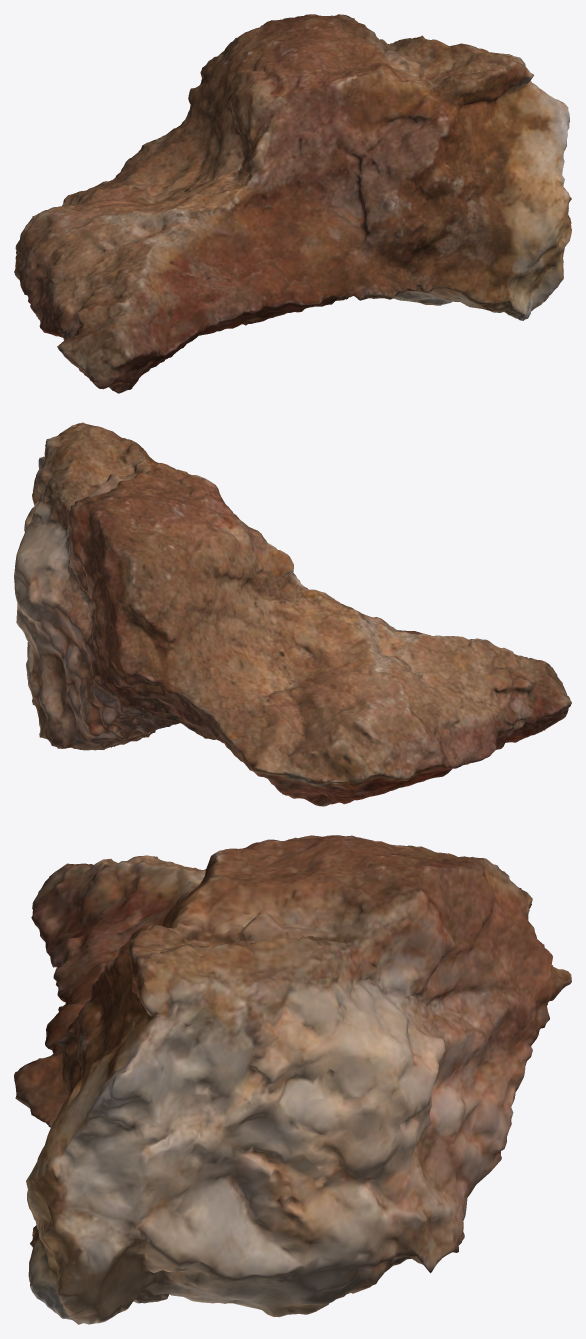
File: limestone.glb
3 views of the same model, one above another, from view 1: azimuth 30°, elevation 25°; view 2: azimuth 150°, elevation 25°; view 3: azimuth 270°, elevation 25° (orthographic). The views are drawn at different scales.
Visible parts, largest first — view 1: stone_01; view 2: stone_01; view 3: stone_01.
Part boxes in pixels (x1=…): stone_01: x1=14, y1=14, x2=571, y2=393; stone_01: x1=14, y1=422, x2=571, y2=806; stone_01: x1=14, y1=835, x2=571, y2=1324.
Size of the model in its own units: 0.1469 by 0.0718 by 0.0891.
1 material, 1 textured.
